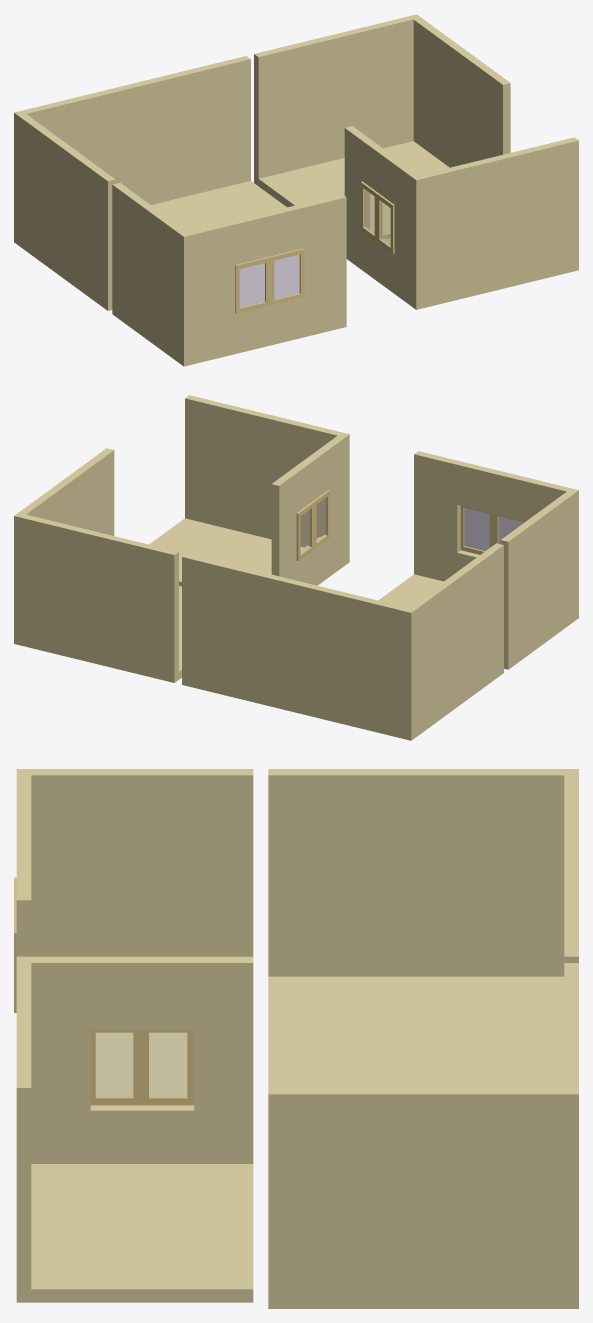
The picture shows the model from 3 angles, top to bottom: view 1: azimuth 30°, elevation 25°; view 2: azimuth 150°, elevation 25°; view 3: azimuth 270°, elevation 25°; orthographic projection. The views are drawn at different scales.
Visible parts, largest first — view 1: Cube.001, Cube.002, Cube.003, Cube, 卧室窗.002, 卧室窗.003; view 2: Cube.001, Cube.002, Cube.003, Cube, 卧室窗.002, 卧室窗.003; view 3: Cube.001, Cube.003, Cube.002, Cube, 卧室窗.003.
Part boxes in pixels (x1,y1,x2,y2): Cube.001: [14, 56, 286, 310]; Cube.002: [254, 14, 510, 239]; Cube.003: [344, 126, 578, 309]; Cube: [112, 183, 346, 366]; 卧室窗.002: [235, 248, 304, 313]; 卧室窗.003: [360, 181, 394, 253]; Cube.001: [182, 543, 503, 740]; Cube.002: [14, 448, 181, 682]; Cube.003: [149, 395, 349, 586]; Cube: [378, 451, 578, 669]; 卧室窗.002: [460, 505, 523, 554]; 卧室窗.003: [296, 490, 329, 561]; Cube.001: [268, 769, 578, 1087]; Cube.003: [16, 956, 253, 1302]; Cube.002: [268, 963, 578, 1308]; Cube: [16, 769, 253, 1095]; 卧室窗.003: [90, 1030, 194, 1105].
Size of the model in its own units: 10.4 by 3.2 by 7.64.
